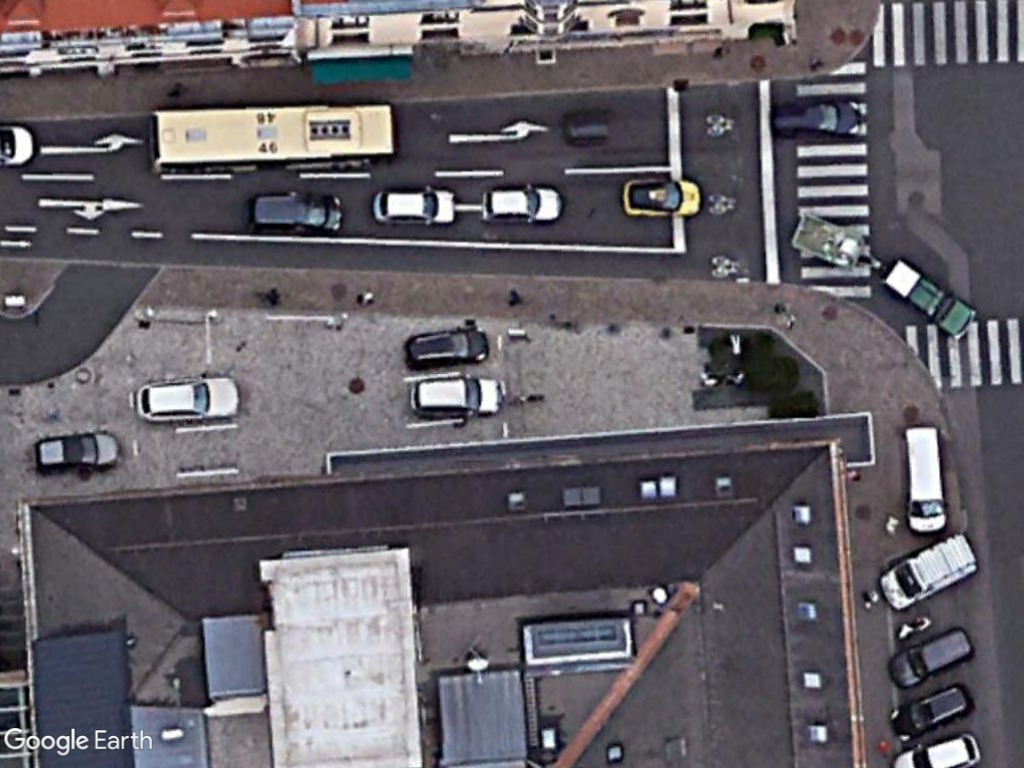bus: (143, 99, 401, 171)
car: (133, 371, 247, 425), (886, 680, 975, 743), (766, 93, 867, 143), (406, 372, 506, 421), (30, 427, 123, 476), (246, 191, 345, 237), (400, 323, 493, 371), (370, 185, 461, 229), (478, 183, 568, 226), (619, 176, 705, 219)
other: (881, 255, 980, 344)
van: (877, 532, 980, 614), (885, 624, 976, 693), (897, 420, 949, 533)
